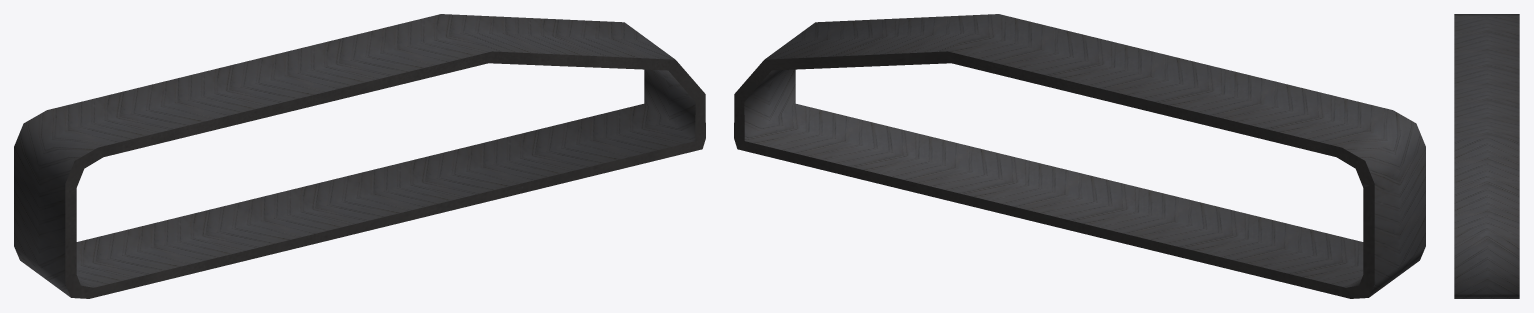
The model's file is SM_EN_1002_chuansongdai.FBX.
The picture shows the model from 3 angles, left to right: view 1: azimuth 30°, elevation 25°; view 2: azimuth 150°, elevation 25°; view 3: azimuth 270°, elevation 25°; orthographic projection. The views are drawn at different scales.
Visible parts, largest first — view 1: SM_EN_1002_chuansongdai; view 2: SM_EN_1002_chuansongdai; view 3: SM_EN_1002_chuansongdai.
Part boxes in pixels (x1,y1,x2,y2): SM_EN_1002_chuansongdai: [14, 14, 705, 298]; SM_EN_1002_chuansongdai: [734, 14, 1425, 298]; SM_EN_1002_chuansongdai: [1454, 14, 1519, 298].
Bounding box in the file's own units: 174 × 38.62 × 24.
